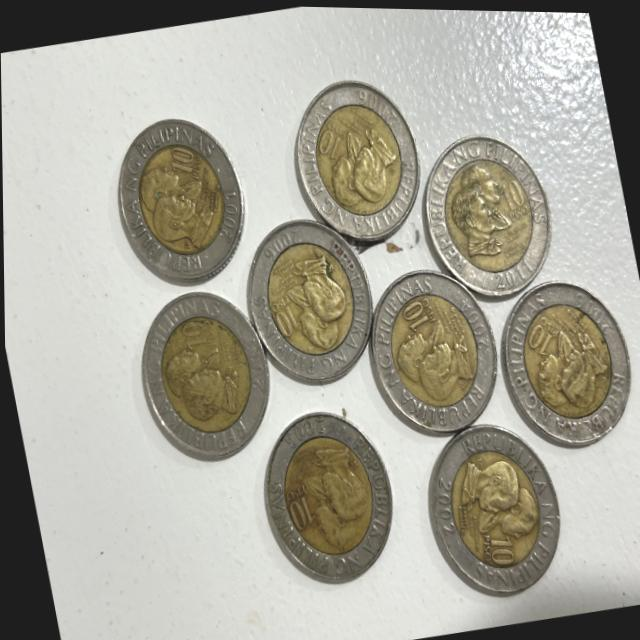10_Old_Front: (519, 305, 562, 359), (311, 117, 353, 171), (496, 168, 534, 224), (476, 523, 522, 569), (282, 479, 317, 535), (395, 290, 440, 333), (267, 286, 302, 341), (176, 314, 217, 356), (166, 142, 206, 184), (483, 562, 486, 568)
